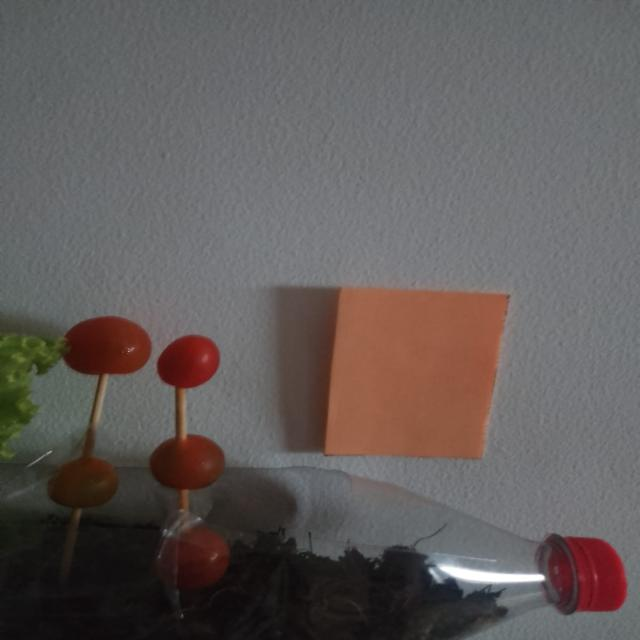card: (324, 288, 508, 458)
fruit_maturation: (156, 526, 229, 590)
fully_grown: (63, 316, 151, 375), (150, 434, 225, 490), (48, 456, 118, 509), (157, 335, 219, 388)
